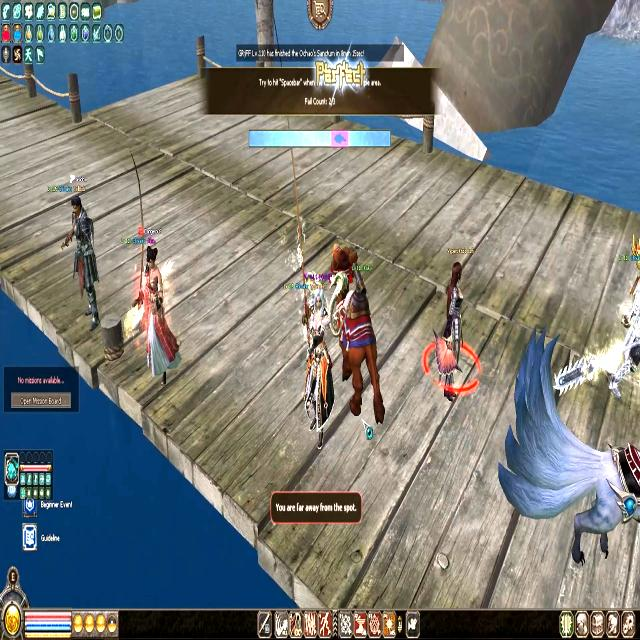fishes: (333, 131, 347, 145)
